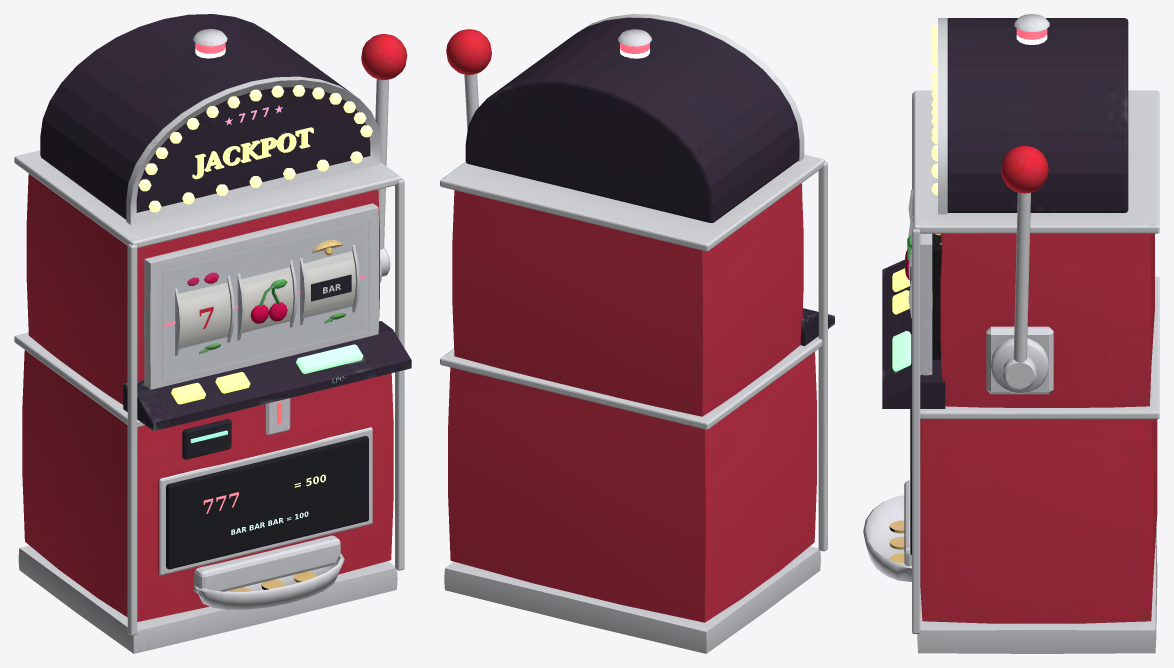
The model's file is slot_machine.glb.
3 views of the same model, side by side, from view 1: azimuth 30°, elevation 25°; view 2: azimuth 150°, elevation 25°; view 3: azimuth 270°, elevation 25° (orthographic). The views are drawn at different scales.
Parts seen in each view (by area): view 1: body, marquee, Cylinder.003, Cylinder.009, Cylinder.006, Sphere, Cylinder.014, sym.010, sym.015; view 2: body, Sphere, Cylinder.014; view 3: body, Cylinder.014, Sphere, marquee, Cylinder.013.
Boxes of the visible parts, left/top/right/bottom form: body: left=14, top=14, right=411, bottom=653; marquee: left=138, top=85, right=372, bottom=212; Cylinder.003: left=178, top=282, right=230, bottom=348; Cylinder.009: left=303, top=251, right=355, bottom=317; Cylinder.006: left=241, top=267, right=293, bottom=333; Sphere: left=361, top=34, right=407, bottom=79; Cylinder.014: left=375, top=79, right=388, bottom=249; sym.010: left=250, top=279, right=287, bottom=323; sym.015: left=311, top=274, right=351, bottom=301; body: left=440, top=14, right=834, bottom=653; Sphere: left=446, top=29, right=491, bottom=74; Cylinder.014: left=464, top=73, right=478, bottom=131; body: left=863, top=14, right=1159, bottom=653; Cylinder.014: left=1013, top=192, right=1030, bottom=363; Sphere: left=1000, top=145, right=1048, bottom=193; marquee: left=931, top=24, right=937, bottom=195; Cylinder.013: left=1003, top=356, right=1036, bottom=389.
Bounding box in the file's own units: 1.63 × 2.61 × 1.23.
Materials: 16 (1 with a texture image).
